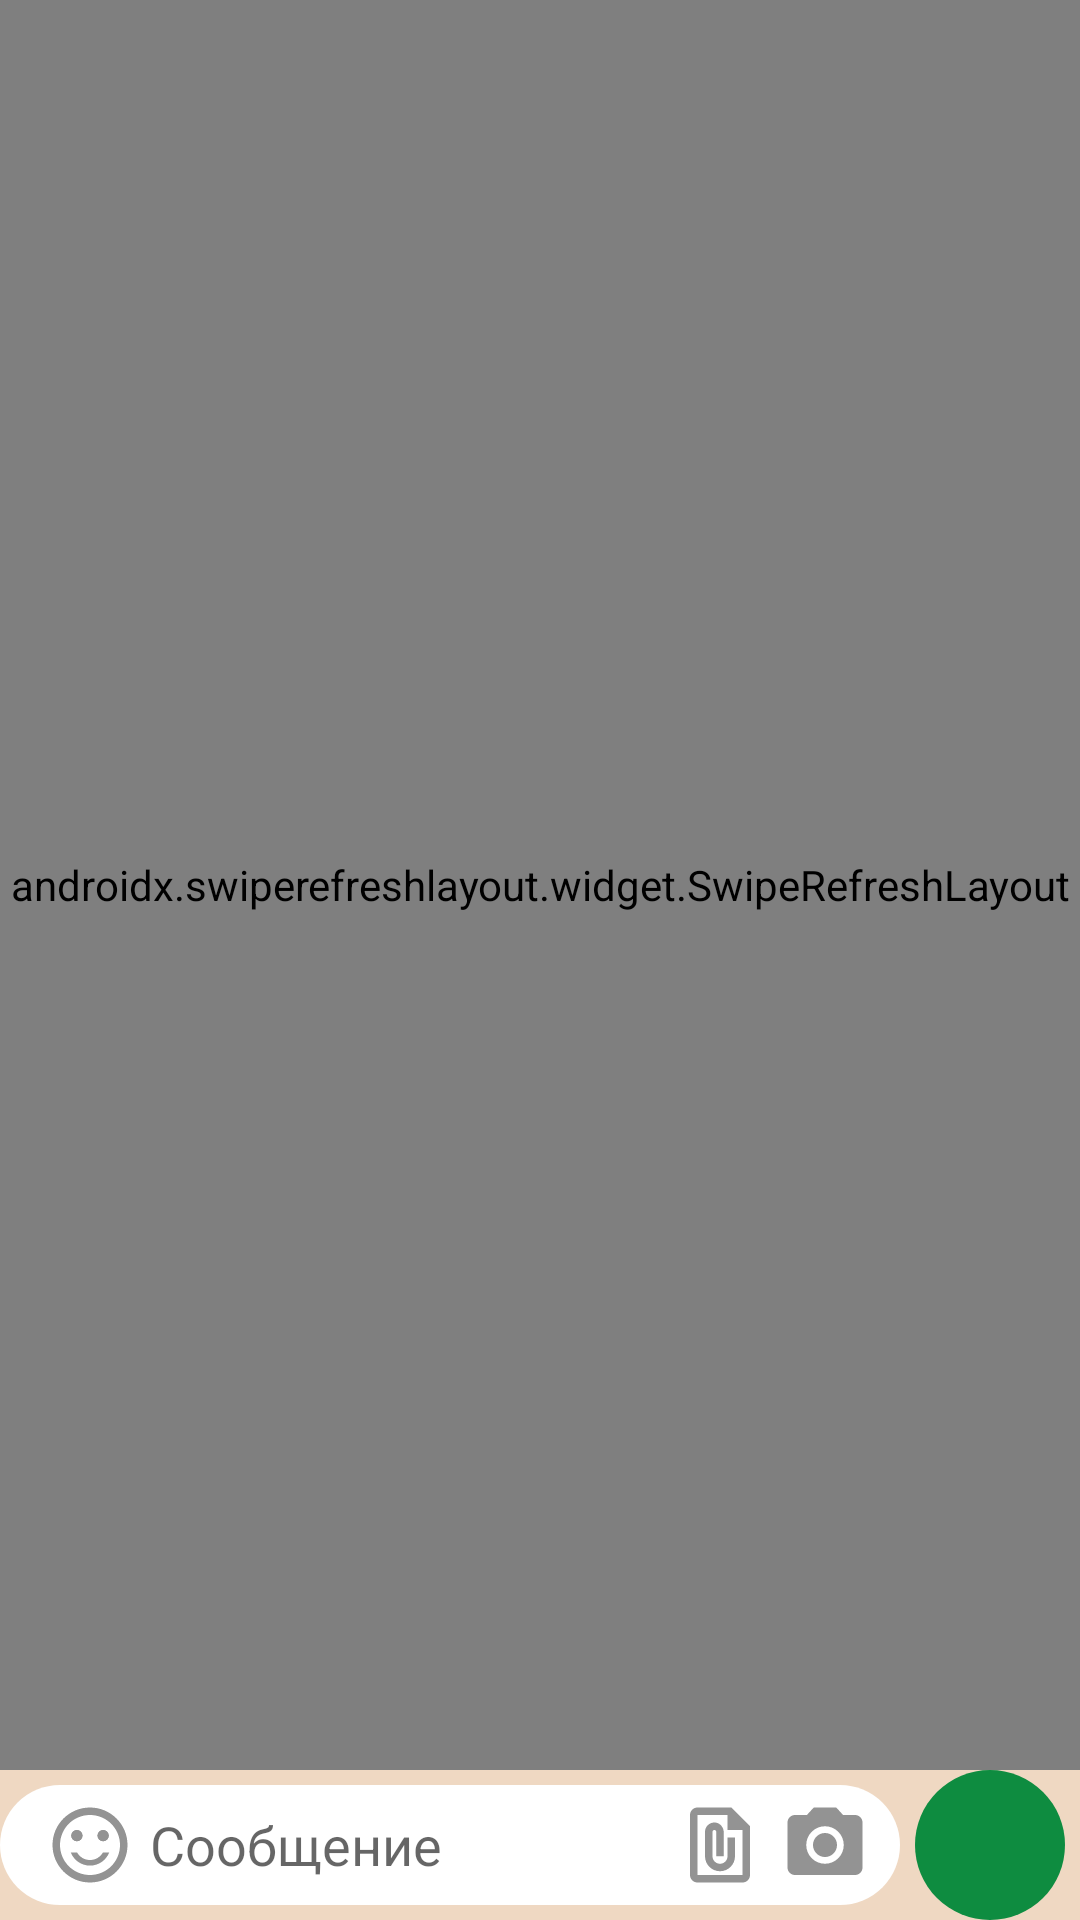

Point at icon controls on the screen. Image size 1080*1920, points as [x,y].
file present: [720,1845]
photo camera: [825,1841]
smile: [90,1845]
